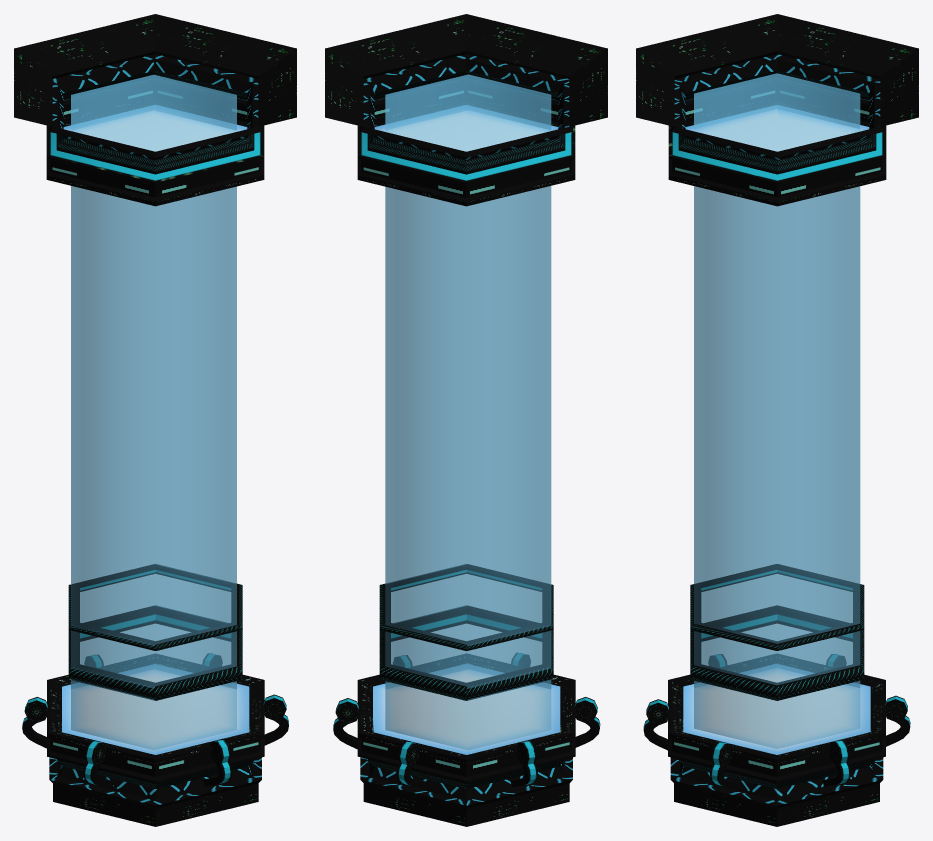
File: Capsule_Container_Art.fbx
The picture shows the model from 3 angles, left to right: view 1: azimuth 30°, elevation 25°; view 2: azimuth 150°, elevation 25°; view 3: azimuth 270°, elevation 25°; orthographic projection.
Parts seen in each view (by area): view 1: Capsule_Container; view 2: Capsule_Container; view 3: Capsule_Container.
Part boxes in pixels (x1,y1,x2,y2): Capsule_Container: (14, 14, 296, 826); Capsule_Container: (325, 14, 607, 826); Capsule_Container: (636, 14, 918, 826).
Size of the model in its own units: 2.33 by 5.45 by 2.02.
